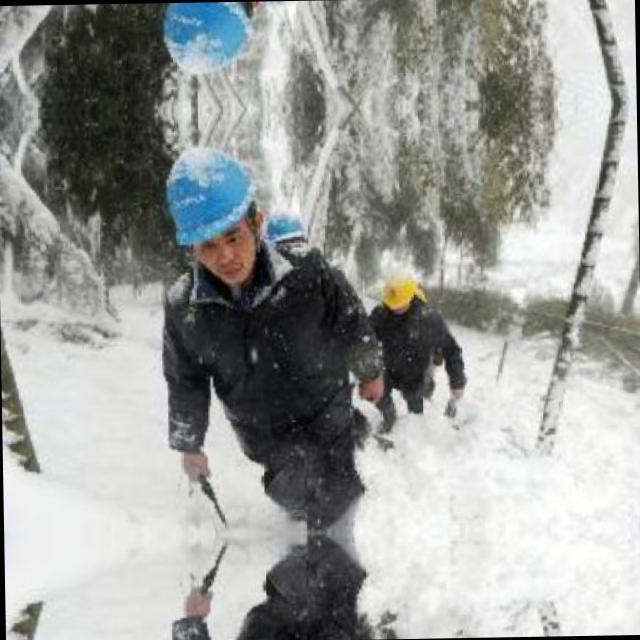helmet: (154, 134, 260, 292), (150, 1, 256, 86), (266, 205, 308, 263), (381, 260, 422, 312)
